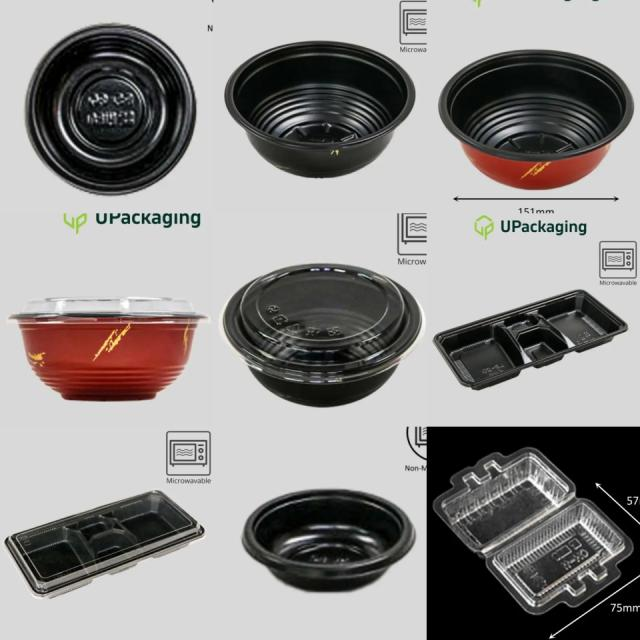Single-Use-Plastic: (434, 448, 634, 615), (26, 24, 196, 194), (222, 264, 424, 407), (439, 50, 634, 189), (225, 41, 415, 178), (5, 491, 204, 598), (10, 298, 208, 401), (434, 290, 628, 390), (242, 490, 415, 591)
